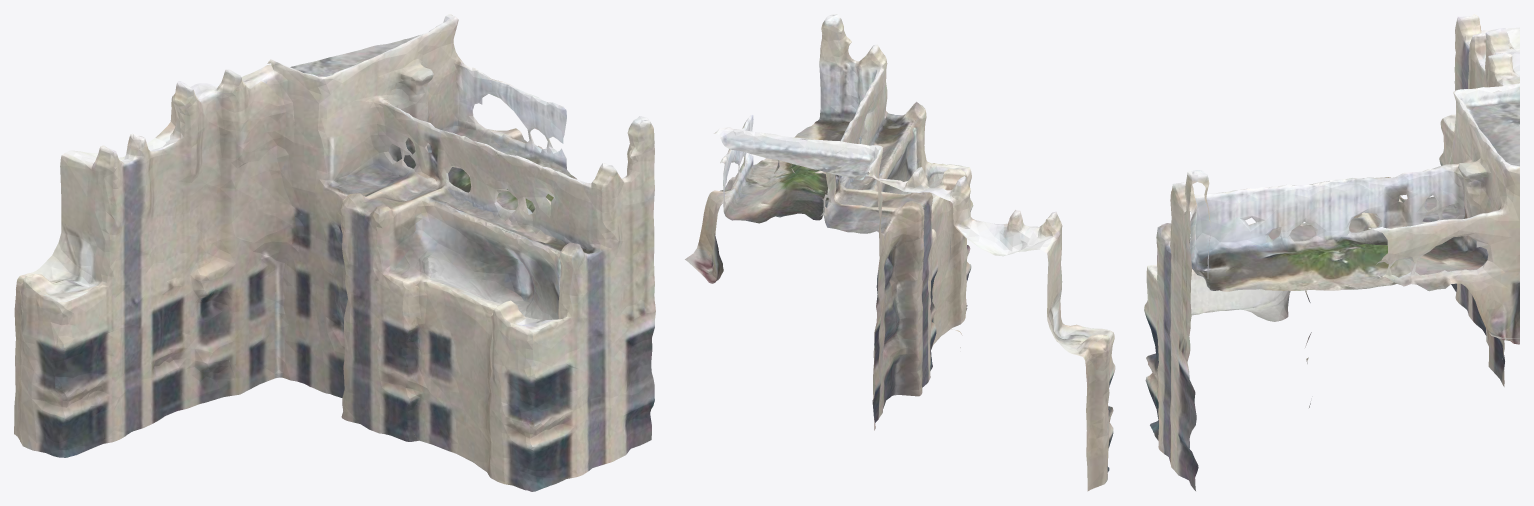
File: Tile_+002_+005_L23_000311100.glb
3 renders of one model, left to right at view 1: azimuth 30°, elevation 25°; view 2: azimuth 150°, elevation 25°; view 3: azimuth 270°, elevation 25°, orthographic. The views are drawn at different scales.
Parts seen in each view (by area): view 1: rtc; view 2: rtc; view 3: rtc.
Part boxes in pixels (x1,y1,x2,y2): rtc: (14, 14, 655, 491); rtc: (685, 14, 1115, 491); rtc: (1144, 14, 1519, 490).
Bounding box in the file's own units: 15.54 × 9.99 × 10.76.
Materials: 1 (1 with a texture image).
